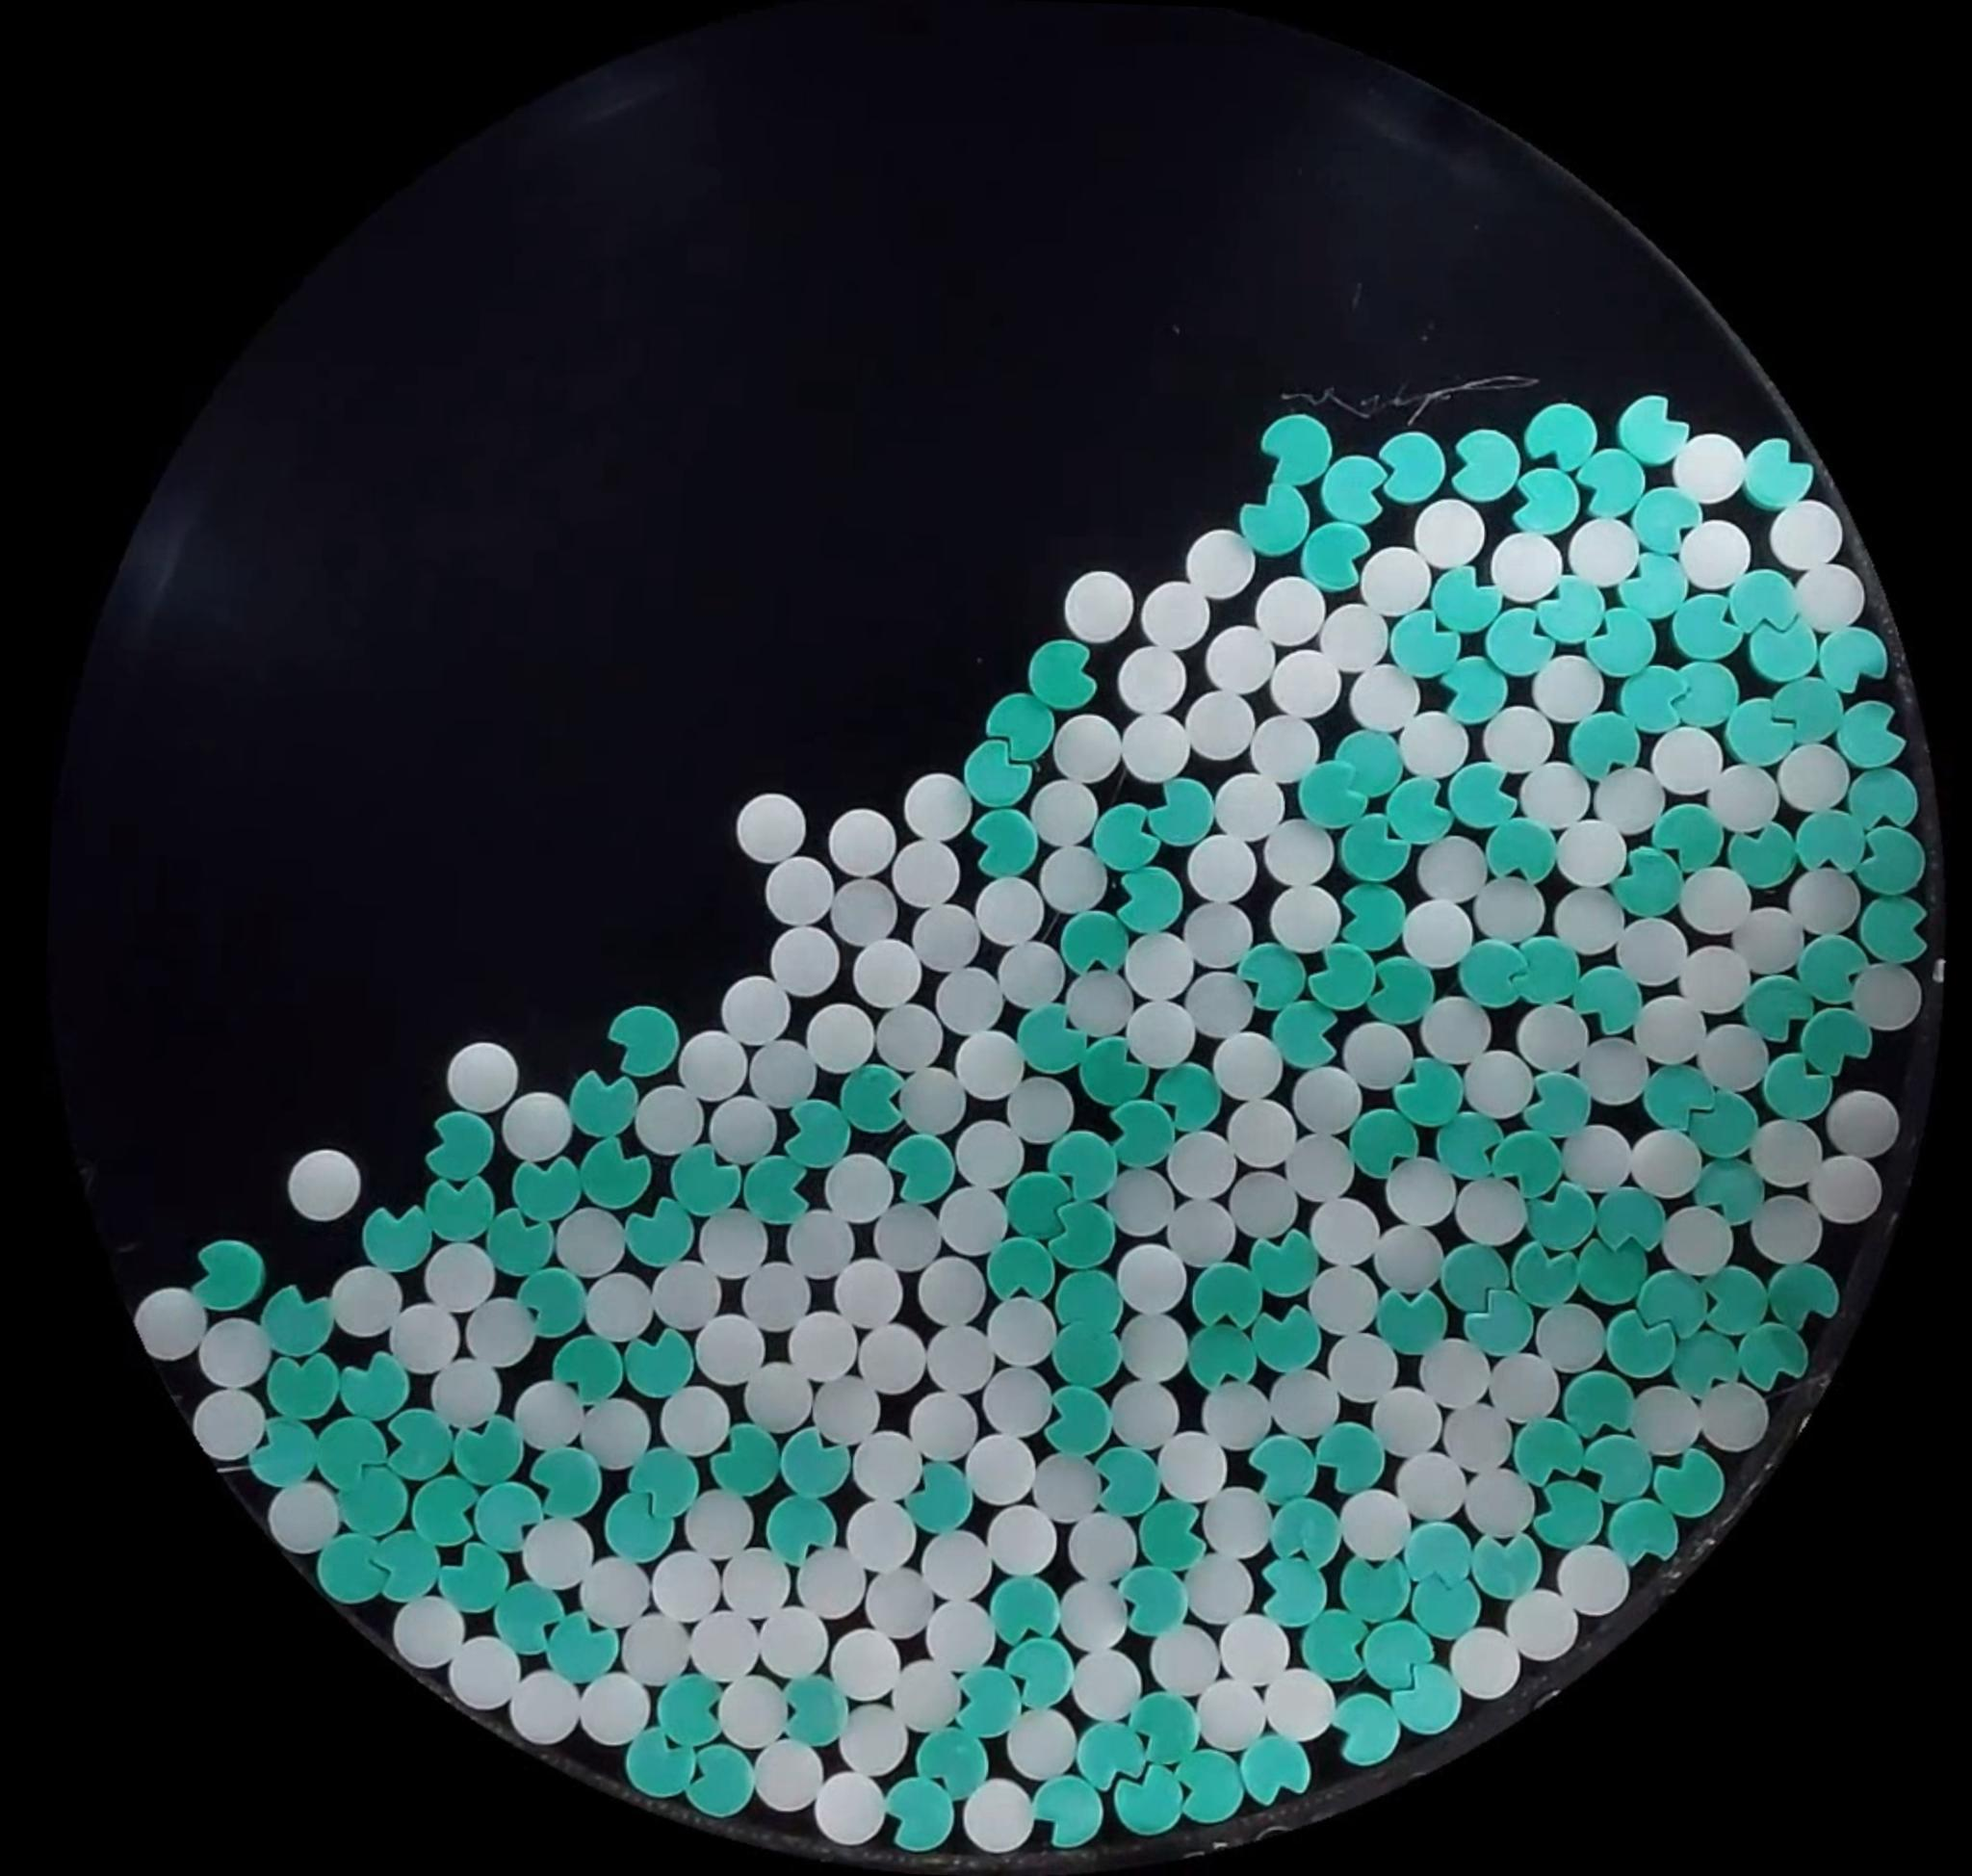no-convexa1: (187, 1231, 276, 1314), (424, 1533, 514, 1615), (618, 1719, 704, 1804), (877, 1769, 960, 1857), (1347, 1096, 1428, 1184), (981, 682, 1063, 764), (1571, 1230, 1653, 1312), (331, 1457, 416, 1538), (1004, 1161, 1085, 1244), (622, 1184, 704, 1265), (597, 1485, 680, 1566), (310, 1411, 393, 1492), (1613, 389, 1697, 469), (356, 1198, 444, 1274), (1722, 689, 1803, 770), (486, 1577, 567, 1658), (1574, 1429, 1657, 1508), (1359, 1614, 1442, 1693), (1229, 481, 1313, 558), (762, 1488, 840, 1573), (1331, 1682, 1407, 1769), (704, 1418, 780, 1504), (625, 1443, 701, 1529), (370, 1527, 445, 1614), (1384, 604, 1472, 678), (1740, 432, 1819, 513), (1313, 449, 1394, 528), (525, 1446, 606, 1525), (1583, 599, 1662, 680), (604, 999, 681, 1082), (961, 807, 1046, 883), (467, 1481, 553, 1555), (651, 1675, 739, 1747), (1446, 425, 1525, 504), (956, 735, 1037, 812), (1051, 1256, 1129, 1337), (1129, 1494, 1206, 1575), (579, 1133, 657, 1214), (780, 1422, 857, 1503), (516, 1263, 592, 1346), (1039, 1372, 1113, 1457), (787, 1083, 857, 1171), (1611, 659, 1689, 738), (1740, 1316, 1817, 1395), (1518, 1178, 1597, 1256), (1511, 1414, 1590, 1492), (1187, 1256, 1266, 1333), (618, 1323, 697, 1400), (266, 1277, 345, 1355), (1687, 1082, 1762, 1163), (1569, 960, 1645, 1041), (1426, 1106, 1504, 1184), (898, 1459, 975, 1536), (1565, 706, 1641, 786), (1722, 816, 1801, 891), (1486, 1127, 1565, 1203), (916, 1723, 991, 1802), (1505, 1240, 1588, 1312), (1116, 1557, 1188, 1640), (1456, 930, 1527, 1015), (1032, 1770, 1102, 1855), (1340, 810, 1417, 886), (1387, 1053, 1465, 1129), (1590, 1180, 1667, 1256), (1076, 1034, 1153, 1110), (407, 1473, 484, 1548), (1576, 442, 1650, 521), (1771, 673, 1845, 752), (1329, 726, 1409, 800), (1609, 840, 1683, 920), (1641, 1057, 1715, 1136), (1359, 953, 1439, 1027), (1310, 1418, 1384, 1497), (1016, 999, 1090, 1078), (835, 1060, 909, 1140), (1236, 1733, 1315, 1807), (1537, 1469, 1608, 1552), (1486, 597, 1555, 682), (1303, 1603, 1372, 1688), (1833, 698, 1909, 773), (1446, 757, 1521, 833), (1384, 770, 1458, 847), (1743, 972, 1821, 1046), (488, 1200, 562, 1277), (252, 1409, 326, 1487), (1685, 1154, 1764, 1226), (1183, 1318, 1262, 1390), (1090, 1441, 1162, 1520), (546, 1333, 625, 1406), (1636, 1267, 1717, 1337), (1463, 1286, 1544, 1356), (1439, 652, 1514, 726), (1856, 893, 1930, 969), (1796, 932, 1872, 1006), (1058, 900, 1132, 976), (1269, 997, 1343, 1073), (1387, 1663, 1461, 1739), (1817, 622, 1889, 699), (1518, 1066, 1595, 1138), (1604, 1496, 1681, 1568), (1255, 1555, 1333, 1628), (1245, 1298, 1317, 1376), (419, 1110, 497, 1182), (1521, 402, 1600, 472), (1261, 409, 1331, 488), (1299, 521, 1370, 601), (1613, 551, 1692, 622), (1468, 1529, 1548, 1599), (986, 1233, 1065, 1304), (1130, 1691, 1201, 1770), (778, 1672, 849, 1751), (745, 1147, 812, 1230), (1269, 1496, 1343, 1569), (567, 1066, 641, 1140), (426, 1171, 500, 1245), (1745, 611, 1821, 683), (1335, 875, 1407, 951), (1111, 860, 1183, 935), (1442, 1244, 1518, 1316), (317, 1534, 393, 1606), (1377, 426, 1447, 504), (1794, 803, 1872, 874), (1646, 803, 1724, 874), (1234, 942, 1312, 1013), (1507, 463, 1581, 535), (1430, 562, 1504, 634), (1486, 814, 1558, 888), (1141, 775, 1215, 847), (1245, 1228, 1319, 1300), (1294, 761, 1370, 831), (1512, 928, 1583, 1004), (1373, 1286, 1449, 1356), (1150, 1062, 1225, 1133), (1338, 1555, 1416, 1624), (1104, 1096, 1173, 1173), (1046, 1319, 1123, 1388), (507, 1156, 585, 1224), (1049, 1131, 1122, 1203), (1113, 1762, 1185, 1834), (1632, 484, 1703, 558), (1674, 1325, 1743, 1400), (1564, 1370, 1639, 1439), (1650, 1446, 1725, 1515), (1799, 1008, 1877, 1075), (542, 1617, 622, 1682), (886, 1129, 949, 1210), (1611, 1311, 1681, 1383), (380, 1406, 451, 1478), (451, 1416, 519, 1490), (264, 1353, 338, 1422), (1076, 1723, 1152, 1790), (1704, 1261, 1770, 1339), (1044, 1207, 1122, 1272), (1176, 1749, 1241, 1827), (1004, 1636, 1069, 1714), (1768, 1048, 1836, 1120), (1308, 935, 1377, 1008), (1768, 1261, 1840, 1330), (1247, 1434, 1319, 1503), (953, 1666, 1025, 1735), (685, 1744, 754, 1816), (1724, 567, 1799, 632), (1669, 590, 1738, 661), (1669, 659, 1740, 728), (1026, 639, 1095, 710), (990, 1575, 1060, 1643), (669, 1147, 745, 1210), (1092, 798, 1159, 868), (1856, 831, 1930, 895), (1849, 764, 1919, 830), (1541, 571, 1604, 643), (1412, 1582, 1488, 1640), (340, 1355, 412, 1414), (1409, 1524, 1474, 1585)
